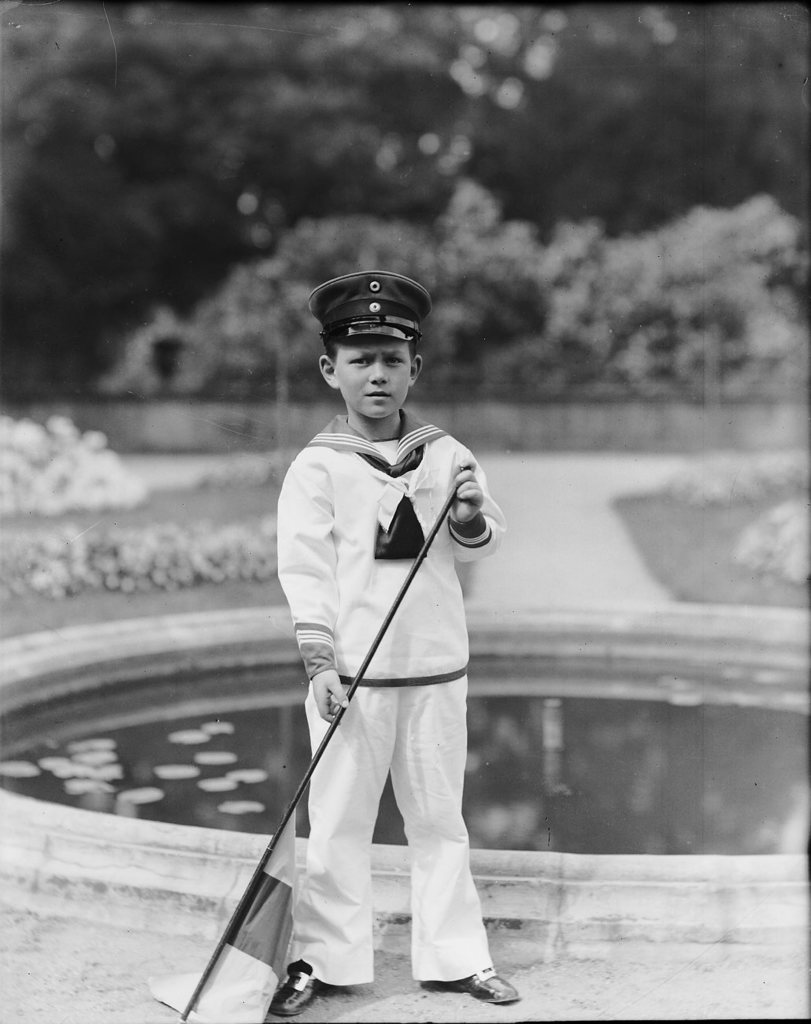Human-face: (330, 334, 407, 424)
